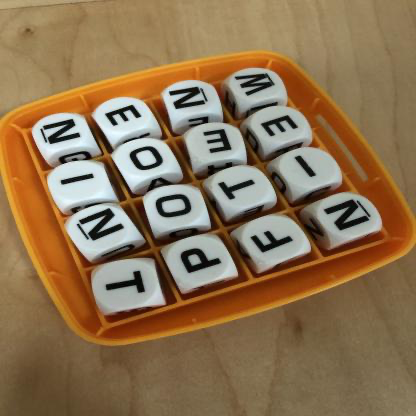e: (254, 107, 310, 144), (97, 97, 148, 135), (192, 123, 244, 160)
f: (245, 217, 304, 265)
i: (280, 148, 339, 187), (50, 161, 105, 201)
n: (70, 205, 132, 253), (318, 194, 379, 237), (38, 113, 90, 152), (166, 80, 218, 116)
o: (146, 184, 204, 229), (121, 138, 174, 178)
p: (167, 238, 231, 286)
t: (90, 260, 158, 311), (214, 167, 272, 207)
w: (231, 67, 286, 105)
